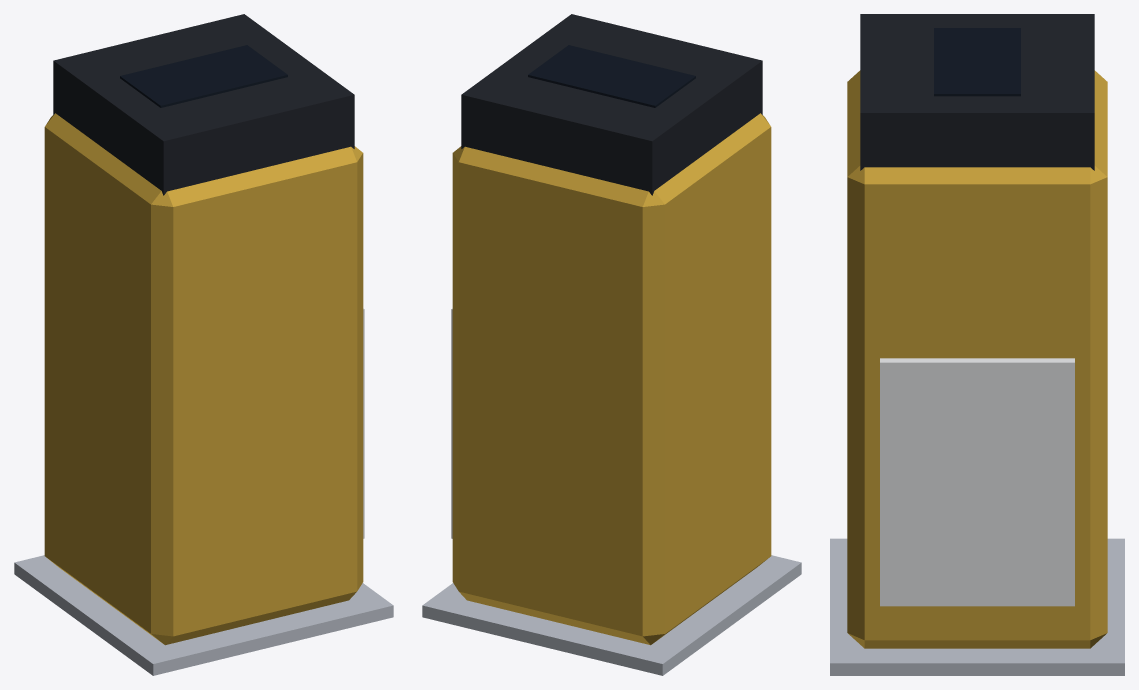
3 views of the same model, side by side, from view 1: azimuth 30°, elevation 25°; view 2: azimuth 150°, elevation 25°; view 3: azimuth 270°, elevation 25° (orthographic). The views are drawn at different scales.
Parts seen in each view (by area): view 1: uv_body, uv_baffle, uv_flange, uv_optic; view 2: uv_body, uv_baffle, uv_flange, uv_optic; view 3: uv_body, uv_detector_rad, uv_baffle, uv_flange, uv_optic.
Boxes of the visible parts, x1,y1,x2,y2 form: uv_body: [44, 113, 363, 645]; uv_baffle: [53, 14, 354, 195]; uv_flange: [14, 555, 393, 675]; uv_optic: [120, 45, 287, 107]; uv_body: [452, 113, 771, 645]; uv_baffle: [461, 14, 762, 195]; uv_flange: [422, 555, 801, 675]; uv_optic: [528, 45, 695, 107]; uv_body: [847, 70, 1107, 648]; uv_detector_rad: [880, 358, 1074, 606]; uv_baffle: [860, 14, 1094, 170]; uv_flange: [830, 538, 1124, 675]; uv_optic: [934, 28, 1020, 96].
Size of the model in its own units: 0.17 by 0.3515 by 0.17.
